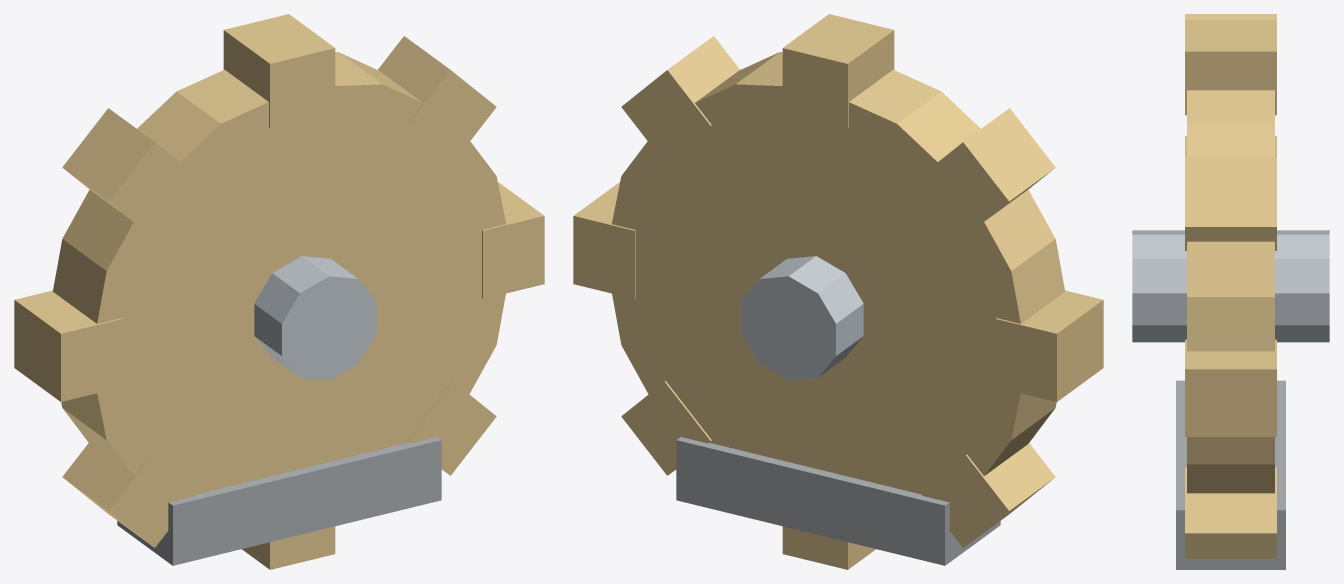
The model's file is gear.glb.
3 renders of one model, left to right at view 1: azimuth 30°, elevation 25°; view 2: azimuth 150°, elevation 25°; view 3: azimuth 270°, elevation 25°, orthographic.
Parts seen in each view (by area): view 1: gear; view 2: gear; view 3: gear.
Part boxes in pixels (<box>): gear: <box>14,14,544,569</box>; gear: <box>573,14,1103,569</box>; gear: <box>1132,14,1329,569</box>.
Bounding box in the file's own units: 2.52 × 2.52 × 0.9.
